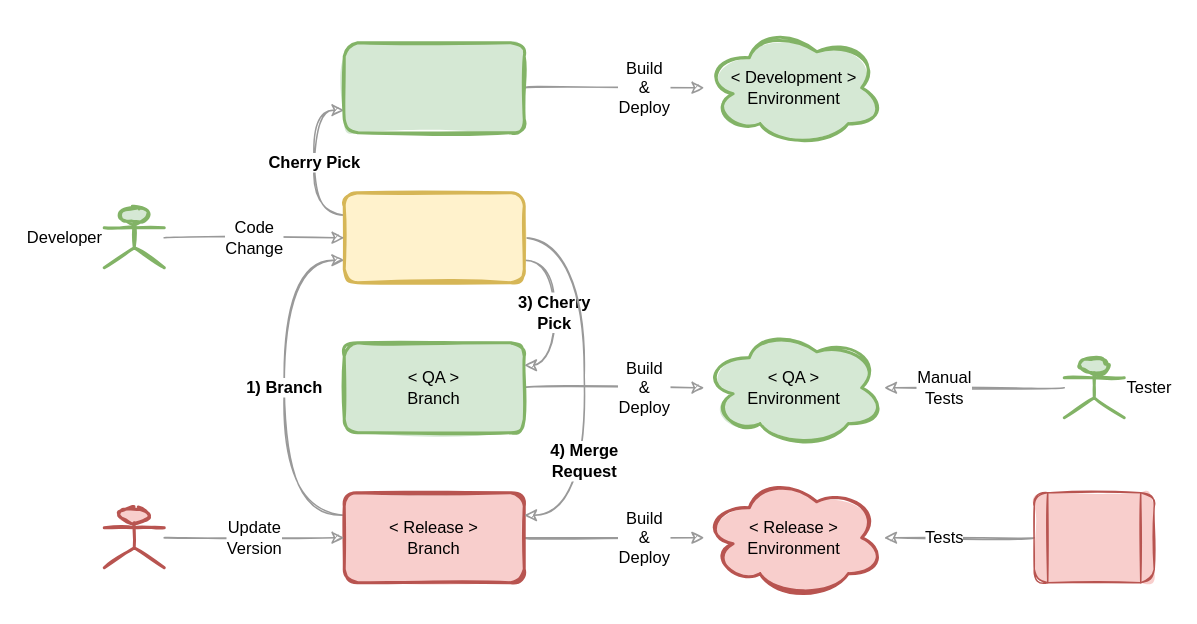
This 1197x624 diagram has some shape labels left out. Each missing label, with the box of its shape:
< Development > Branch: (342, 40, 525, 134)
Automated API / UI Tests: (1033, 491, 1154, 583)
Feature / Fix Branch: (342, 190, 525, 284)
Senior Developer: (102, 506, 165, 568)
